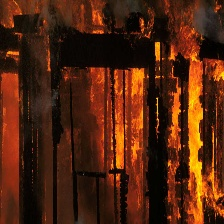fire: (83, 14, 224, 215)
